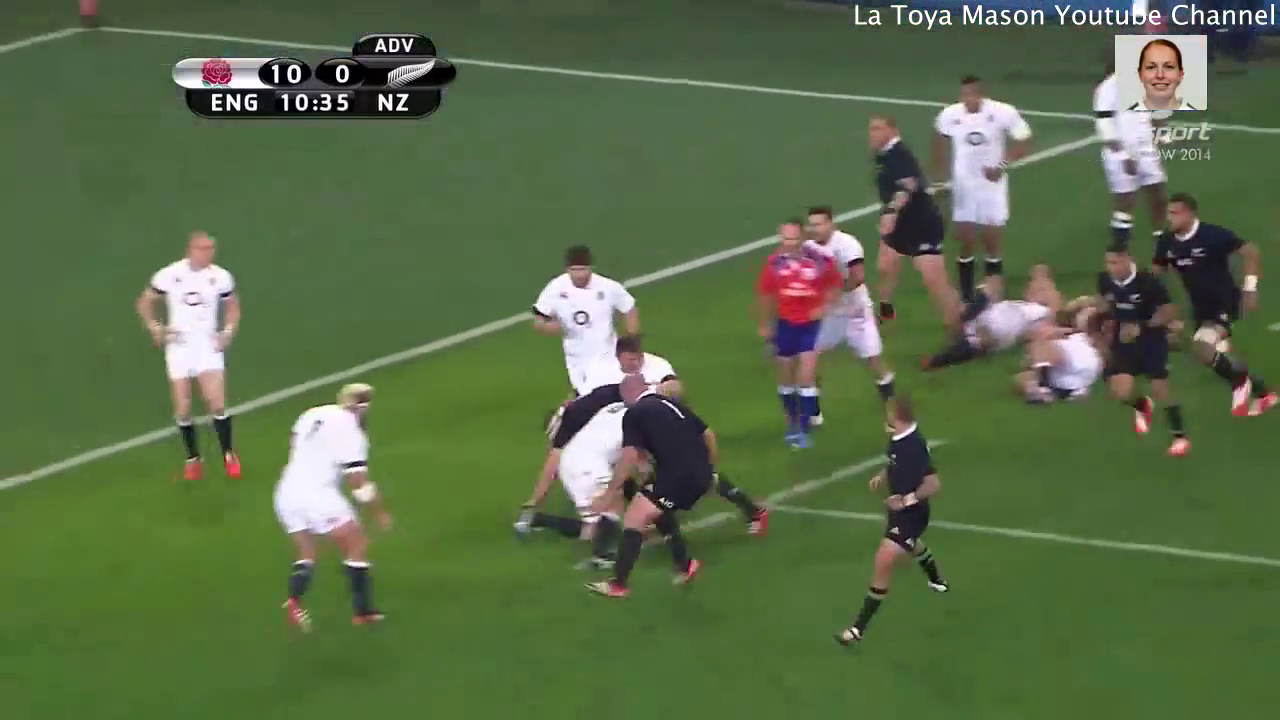maul: (532, 369, 749, 595)
player: (134, 223, 257, 491), (830, 401, 961, 652), (276, 374, 397, 632), (1149, 191, 1280, 412), (593, 378, 709, 599), (1081, 244, 1194, 462), (859, 118, 951, 321), (930, 72, 1025, 268), (746, 224, 825, 448), (811, 208, 896, 410), (535, 247, 618, 362)
ruck: (950, 273, 1109, 394)
